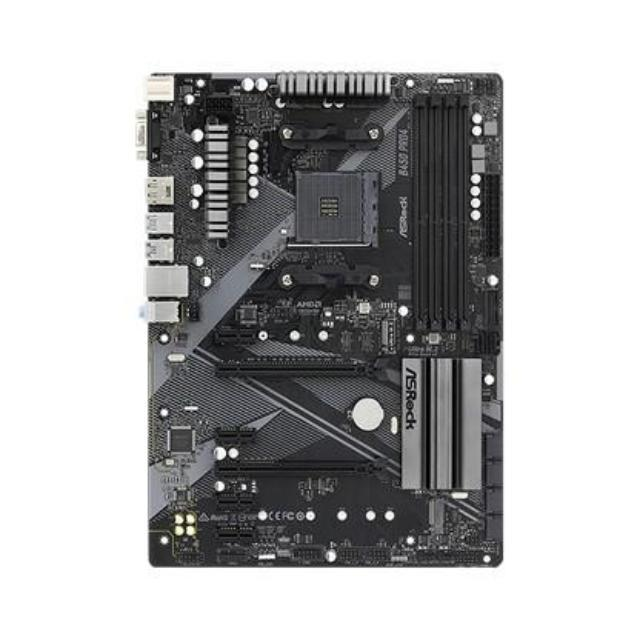Mainboard: (140, 68, 511, 574)
